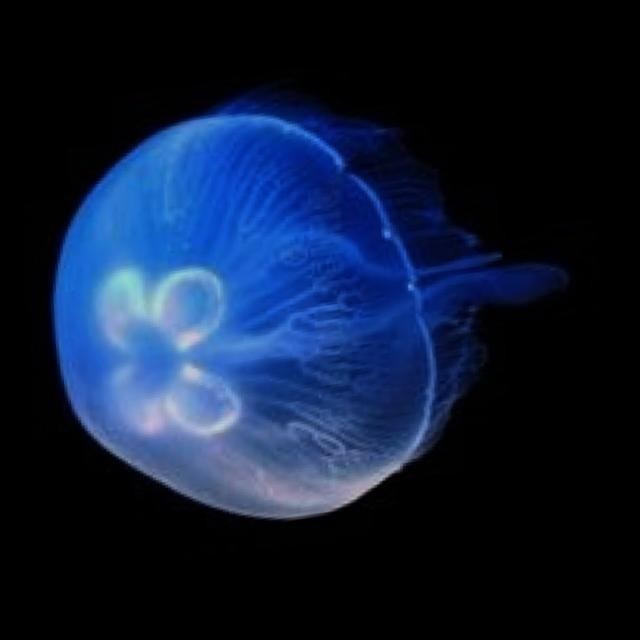Moon-jellyfish: (16, 42, 602, 555)
